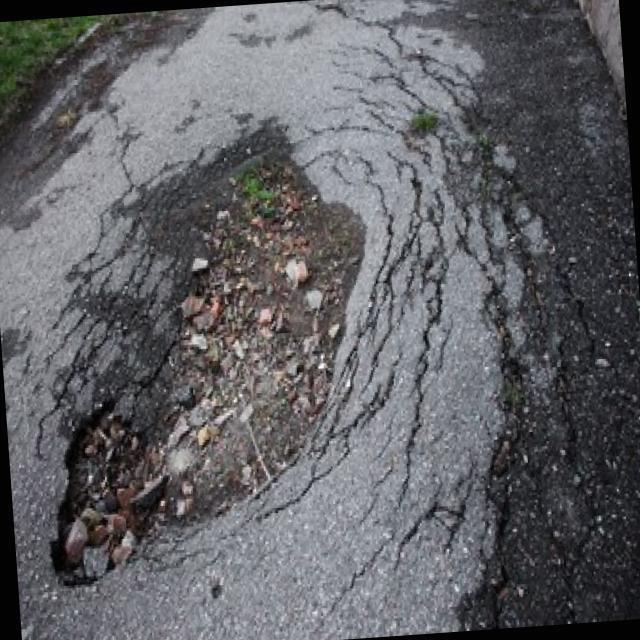Pothole: (52, 151, 366, 589)
